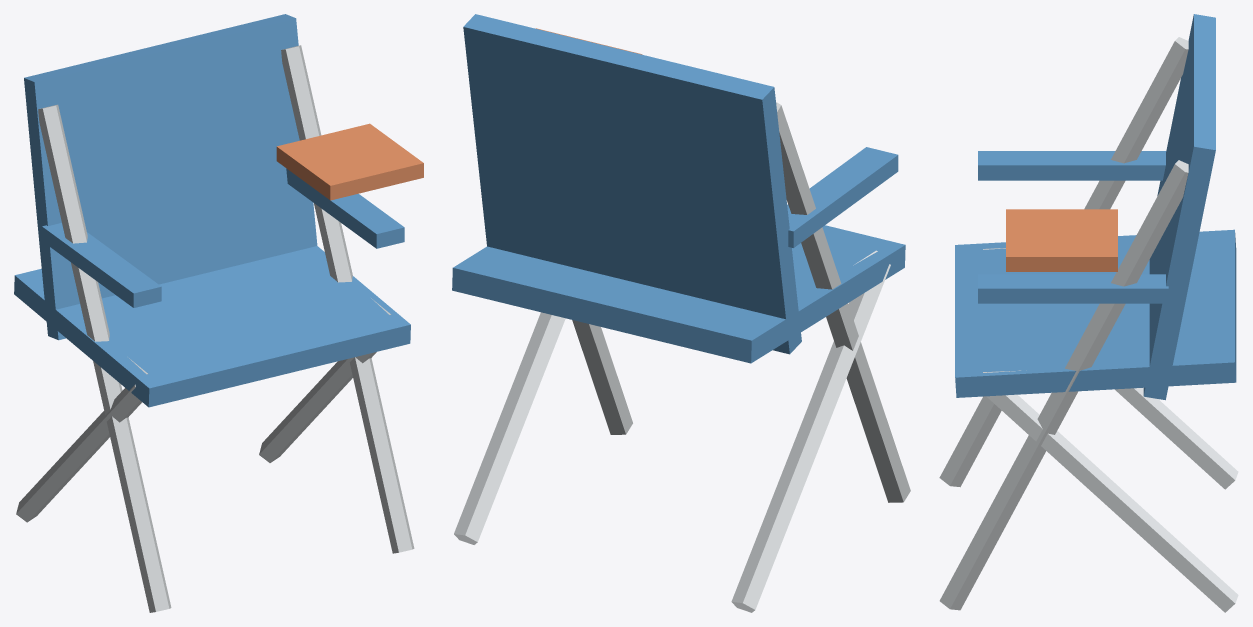
The model's file is caravan-park-and-campsite-camping-chair-blue-3a552568__35365.glb.
3 renders of one model, left to right at view 1: azimuth 30°, elevation 25°; view 2: azimuth 150°, elevation 25°; view 3: azimuth 270°, elevation 25°, orthographic. The views are drawn at different scales.
Parts seen in each view (by area): view 1: camping-chair-blue-flame, camping-chair-blue-galv, camping-chair-blue-azure; view 2: camping-chair-blue-flame, camping-chair-blue-galv; view 3: camping-chair-blue-flame, camping-chair-blue-galv, camping-chair-blue-azure.
Part boxes in pixels (bbox=[...]): camping-chair-blue-flame: bbox=[14, 14, 410, 407]; camping-chair-blue-galv: bbox=[16, 45, 414, 612]; camping-chair-blue-azure: bbox=[276, 123, 423, 200]; camping-chair-blue-flame: bbox=[452, 14, 905, 363]; camping-chair-blue-galv: bbox=[454, 102, 910, 612]; camping-chair-blue-flame: bbox=[955, 14, 1236, 400]; camping-chair-blue-galv: bbox=[939, 37, 1238, 612]; camping-chair-blue-azure: bbox=[1006, 209, 1117, 271].
Bounding box in the file's own units: 0.65 × 0.9243 × 0.5336.
